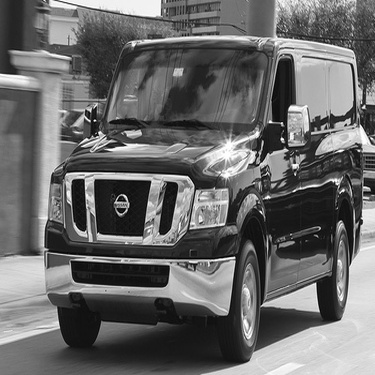car: (46, 29, 367, 366), (345, 112, 374, 200)
